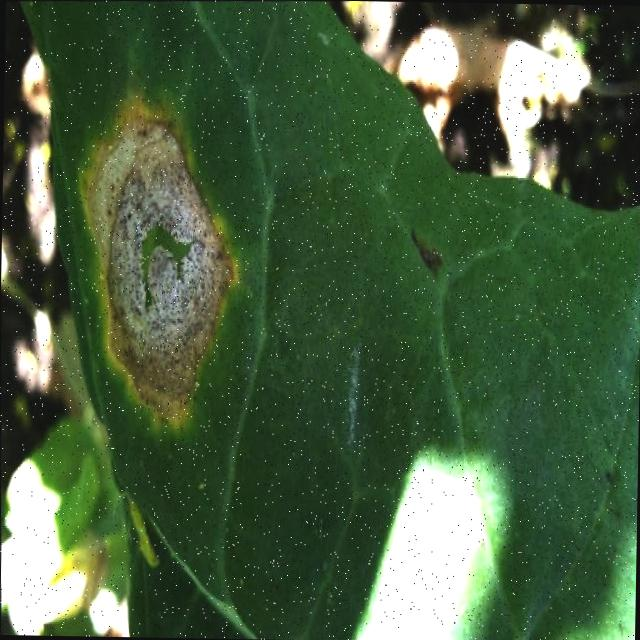Bacterial: (71, 58, 319, 450)
